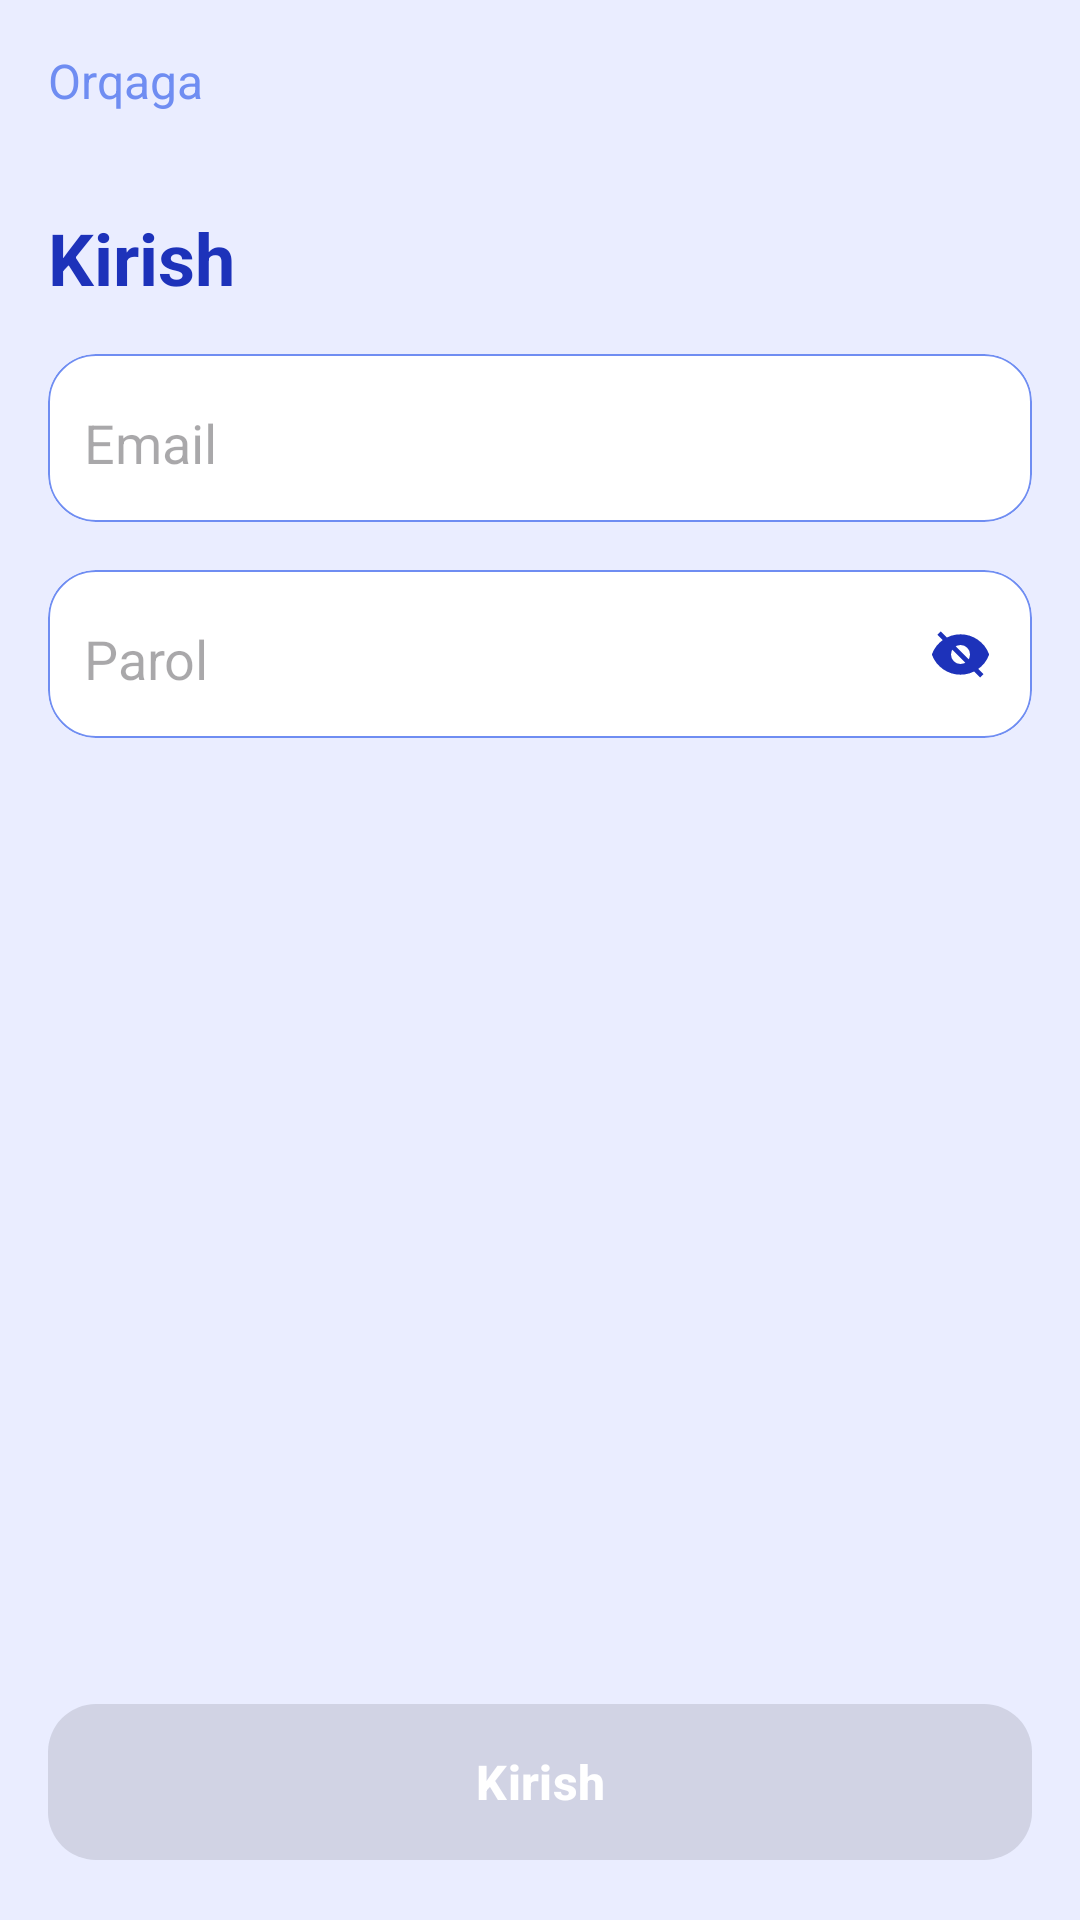

Named icons in this screenshot (1080 × 1920) and their centers, (x,y):
hide password: (960,654)
